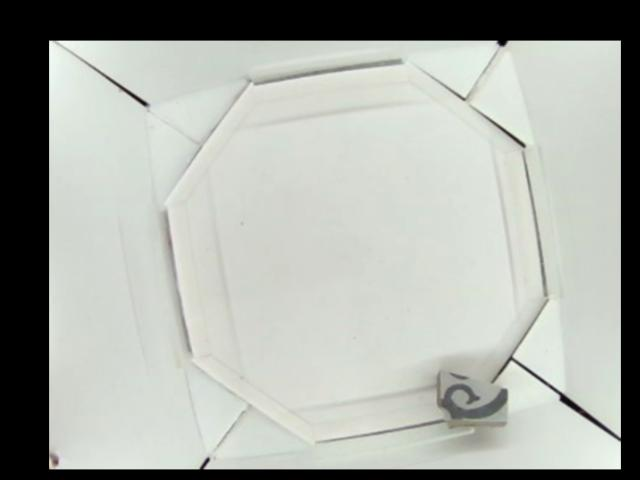China: (437, 367, 510, 427)
